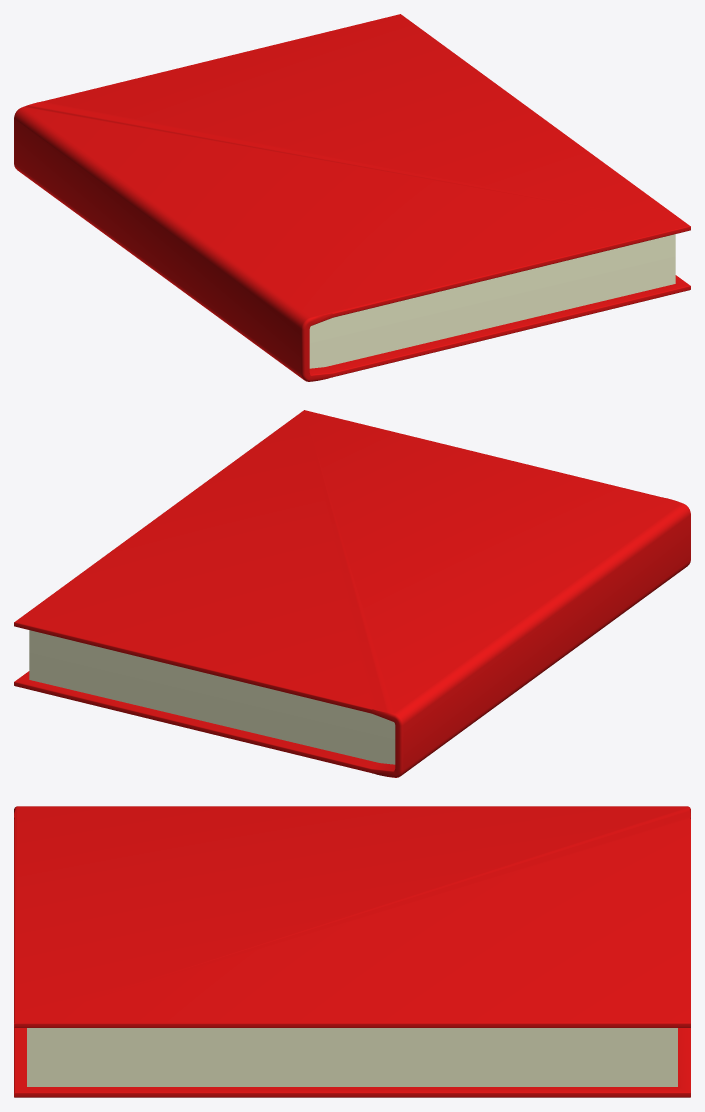
Rendered from ksiazka.fbx.
3 views of the same model, one above another, from view 1: azimuth 30°, elevation 25°; view 2: azimuth 150°, elevation 25°; view 3: azimuth 270°, elevation 25° (orthographic). The views are drawn at different scales.
Parts seen in each view (by area): view 1: Cube.001, Cube; view 2: Cube.001, Cube; view 3: Cube.001, Cube.
Part boxes in pixels (<box>): Cube.001: <box>14,14,690,352</box>; Cube: <box>14,141,690,381</box>; Cube.001: <box>14,410,690,748</box>; Cube: <box>14,537,690,777</box>; Cube.001: <box>14,806,690,1054</box>; Cube: <box>14,1028,690,1097</box>.
Size of the model in its own units: 154 by 24.4 by 200.
